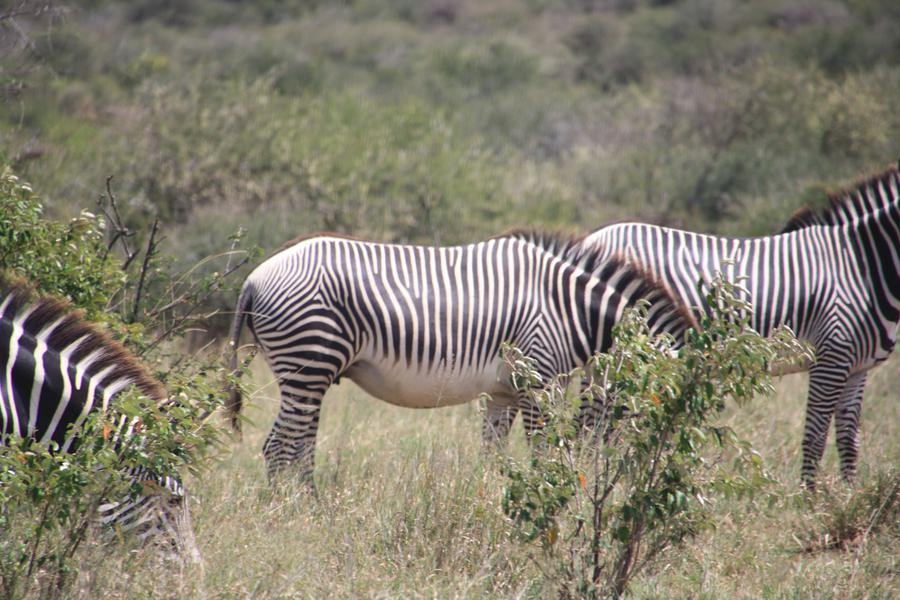zebra_grevys: (213, 213, 568, 385)
